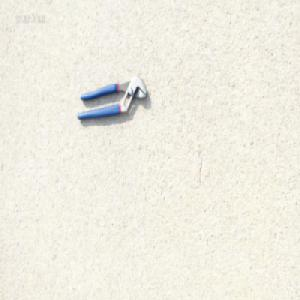Pliers: (75, 73, 147, 121)
